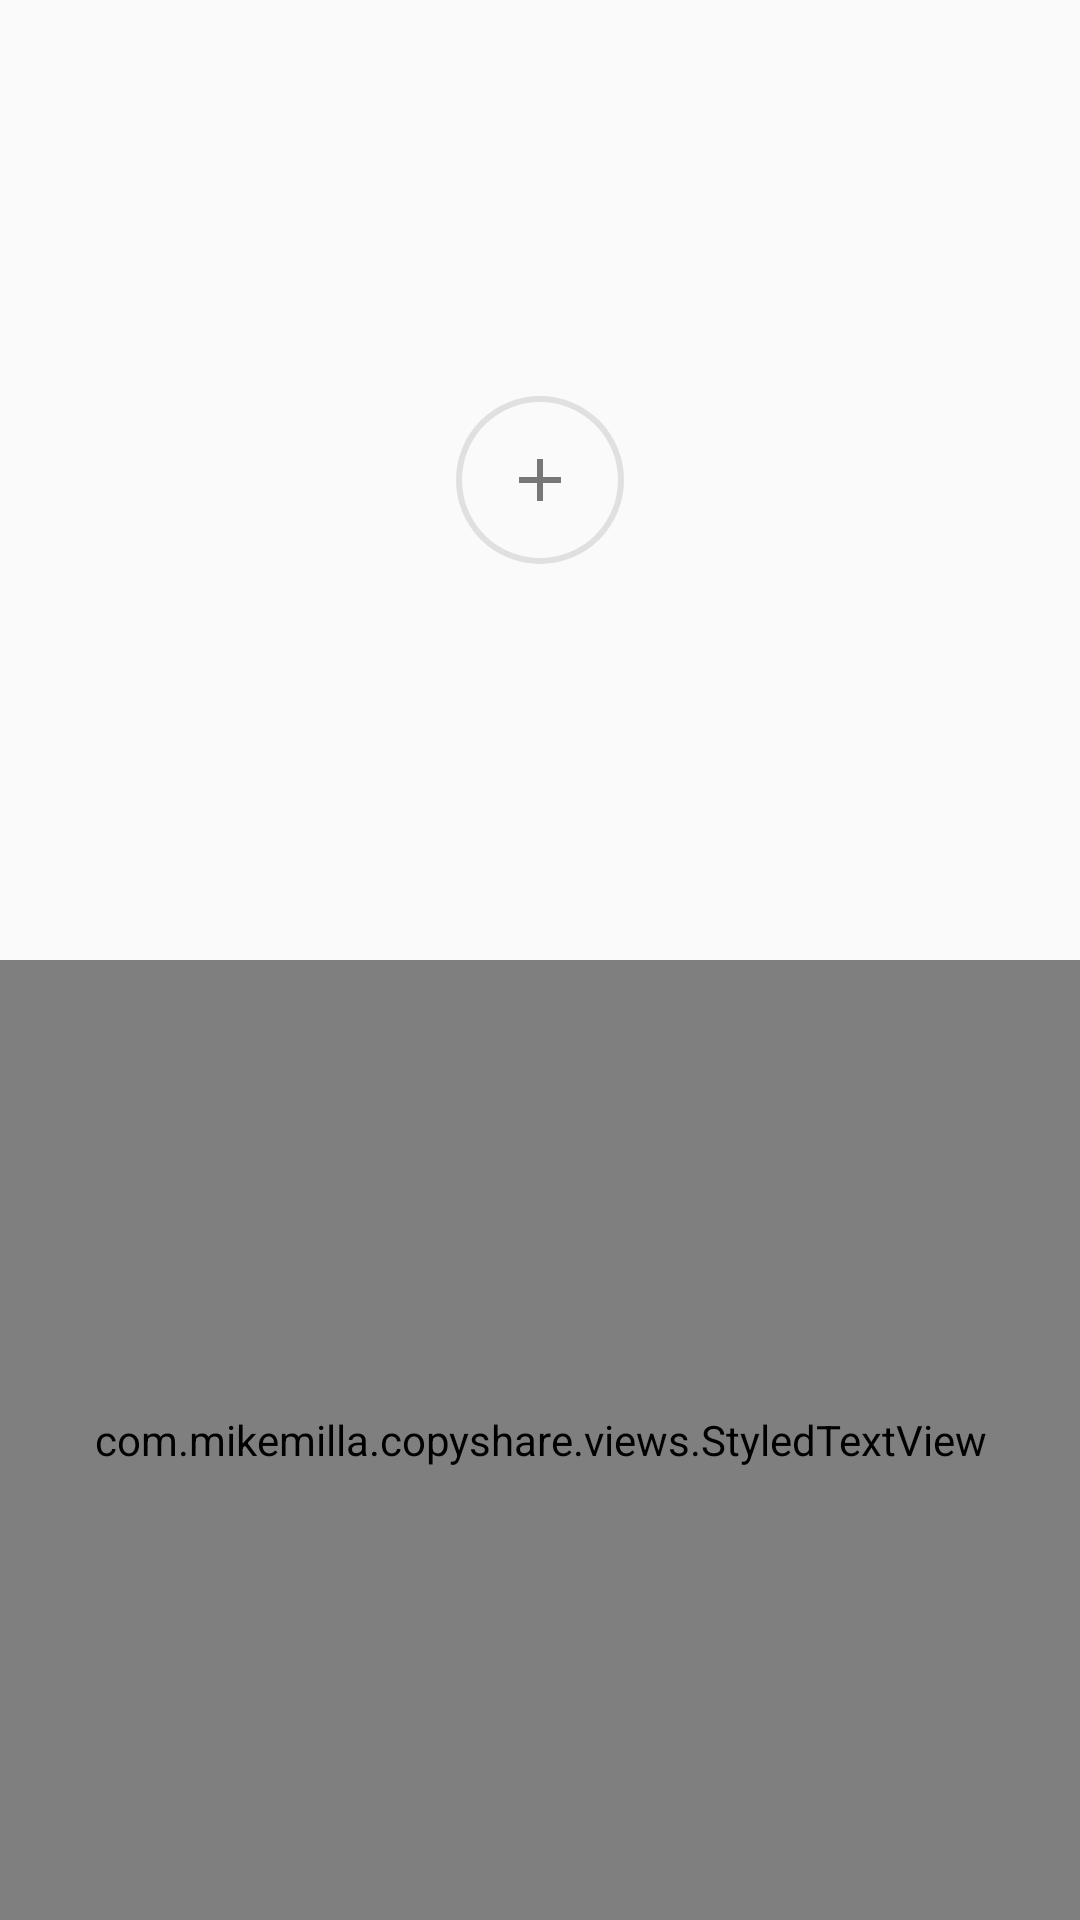

Locate icon controls on the screen. Image size 1080px×1920px, boxes as (x1, y1, x2, y2).
add: (456, 396, 624, 564)
